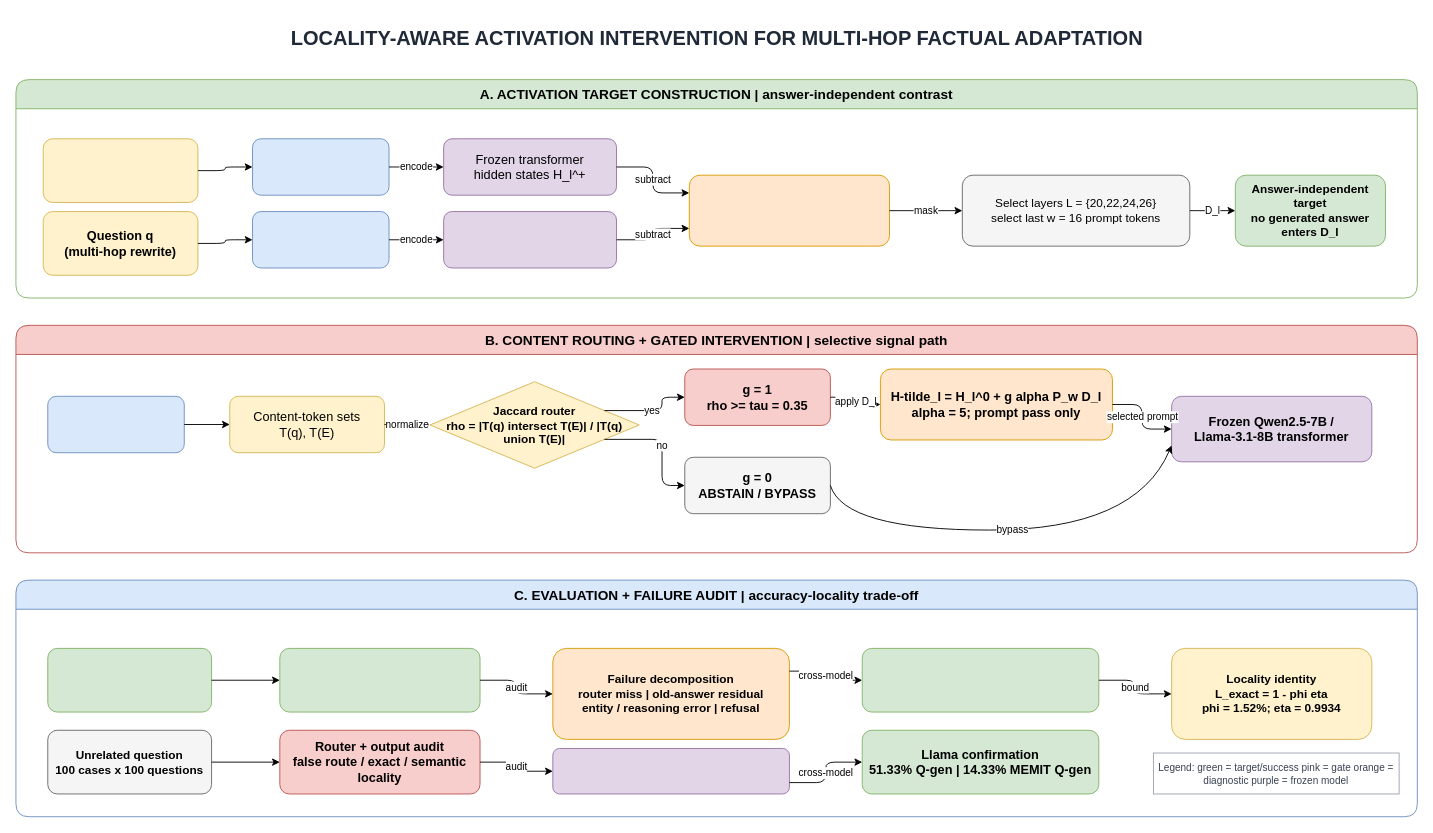
The diagram is 1433 pixels wide and 833 high, and some of its shapes have lost their labels. Each missing label, with the box of its shape:
Base prompt q only: (252, 211, 389, 268)
Contrast operator D_l = H_l^+ - H_l^0: (688, 174, 890, 246)
Edited facts (s, r, o_new): (42, 138, 198, 202)
Edited question 100 cases x 3 questions: (47, 647, 212, 712)
Explicit-fact prompt q + edited triples: (252, 138, 389, 195)
Frozen transformer hidden states H_l^0: (443, 211, 617, 268)
Generation metrics preference / question / case: (279, 647, 480, 712)
Question q: (47, 395, 184, 453)
Qwen confirmation 38.67% Q-gen | 98.49% exact locality: (861, 647, 1099, 712)
Signal-path diagnostics Delta m approx alpha g sum grad(m) dot P_w D_l: (552, 748, 789, 794)
